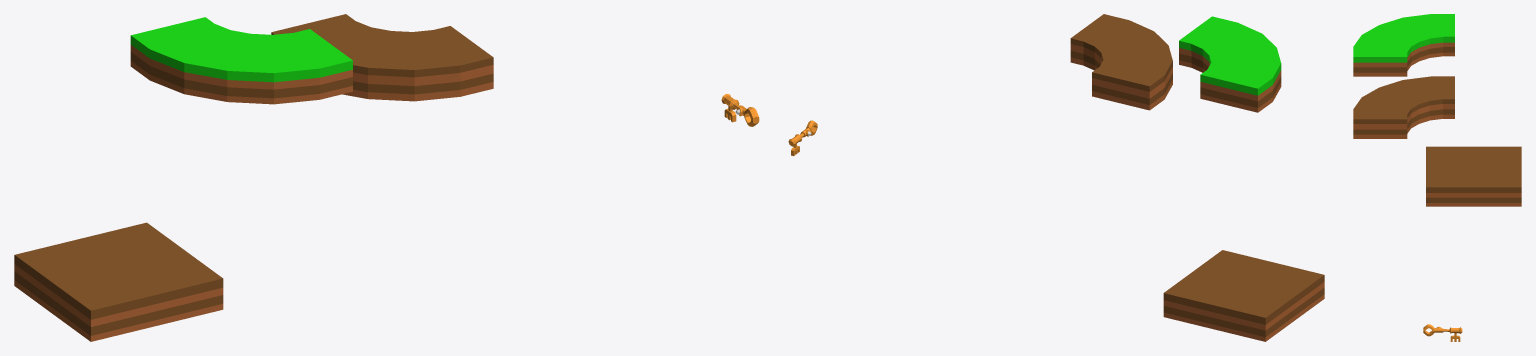
Rendered from extras.fbx.
The picture shows the model from 3 angles, left to right: view 1: azimuth 30°, elevation 25°; view 2: azimuth 150°, elevation 25°; view 3: azimuth 270°, elevation 25°; orthographic projection. The views are drawn at different scales.
Visible parts, largest first — view 1: DirtBlocks, GrassCurvedWall, DirtCurveWall, Key; view 2: DirtBlocks, DirtCurveWall, GrassCurvedWall; view 3: DirtBlocks, GrassCurvedWall, DirtCurveWall, Key.
Part boxes in pixels (x1,y1,x2,y2): DirtBlocks: [14, 222, 223, 341]; GrassCurvedWall: [130, 17, 352, 104]; DirtCurveWall: [271, 14, 493, 101]; Key: [721, 93, 759, 126]; DirtBlocks: [1163, 250, 1324, 341]; DirtCurveWall: [1070, 14, 1172, 110]; GrassCurvedWall: [1179, 16, 1281, 112]; DirtBlocks: [1426, 146, 1521, 206]; GrassCurvedWall: [1353, 14, 1454, 76]; DirtCurveWall: [1353, 76, 1454, 138]; Key: [1423, 324, 1462, 341].
Size of the model in its own units: 5309 by 2083 by 1853.
